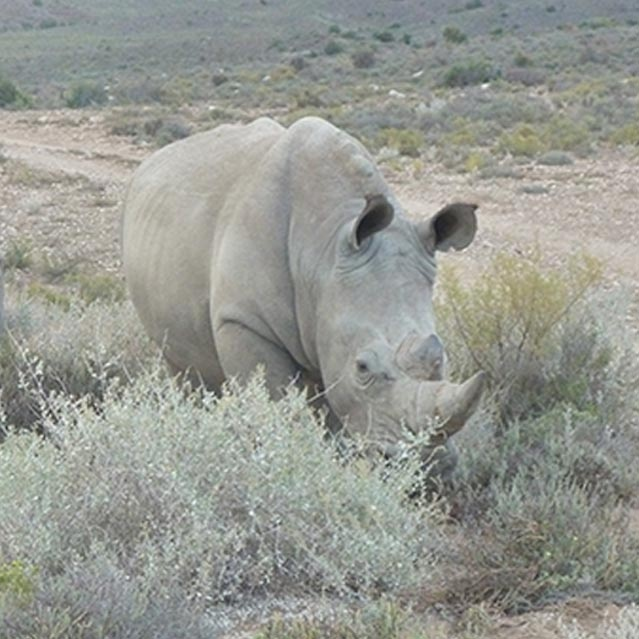rhino: (121, 118, 485, 478)
